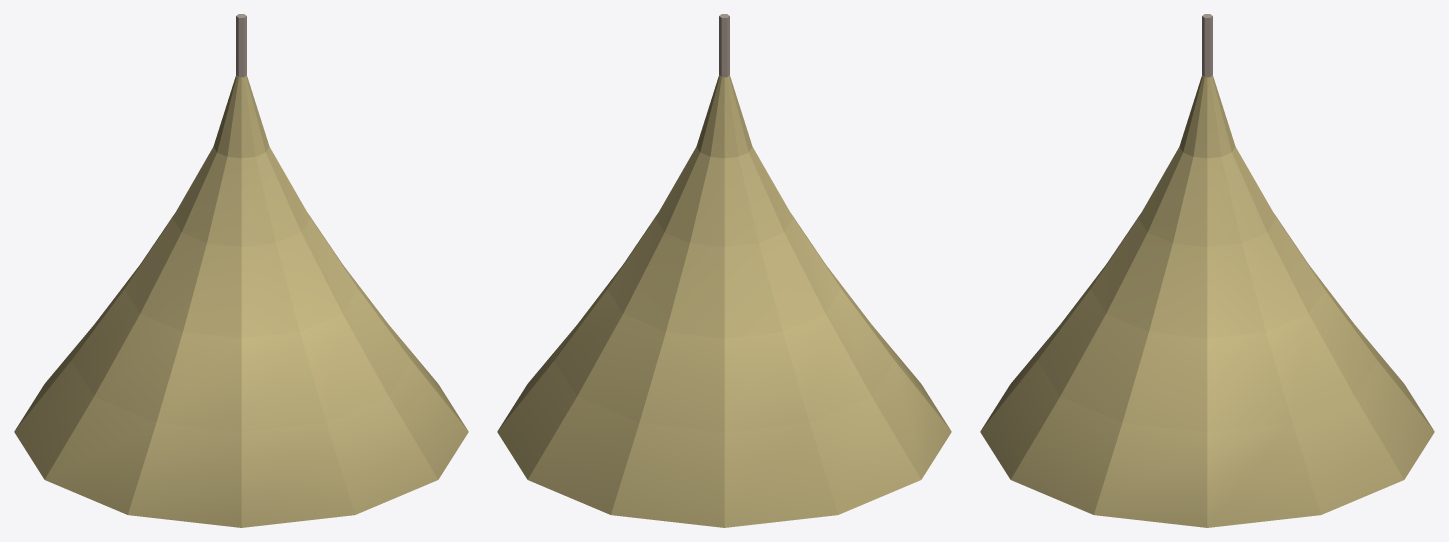
Rendered from haystack_1.glb.
3 views of the same model, side by side, from view 1: azimuth 30°, elevation 25°; view 2: azimuth 150°, elevation 25°; view 3: azimuth 270°, elevation 25° (orthographic).
Parts seen in each view (by area): view 1: haystack_1; view 2: haystack_1; view 3: haystack_1.
Boxes of the visible parts, x1,y1,x2,y2 form: haystack_1: [14, 14, 468, 527]; haystack_1: [497, 14, 951, 527]; haystack_1: [980, 14, 1434, 527].
Size of the model in its own units: 4.17 by 4.21 by 4.17.
